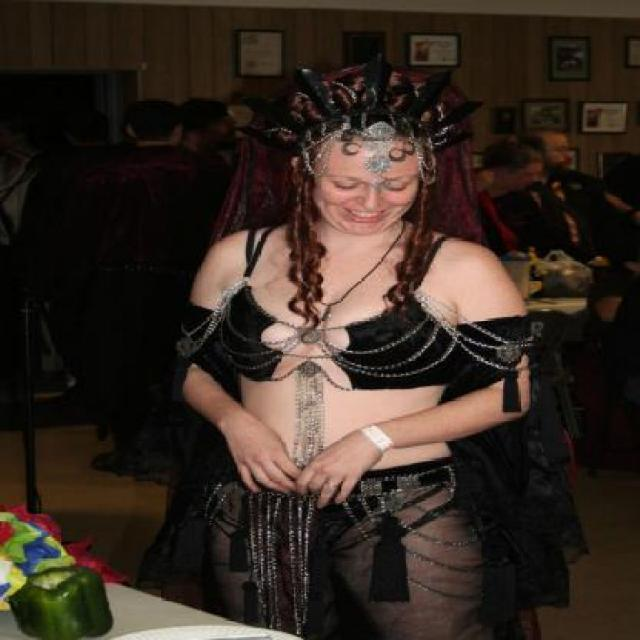Bell pepper: (9, 566, 114, 640)
